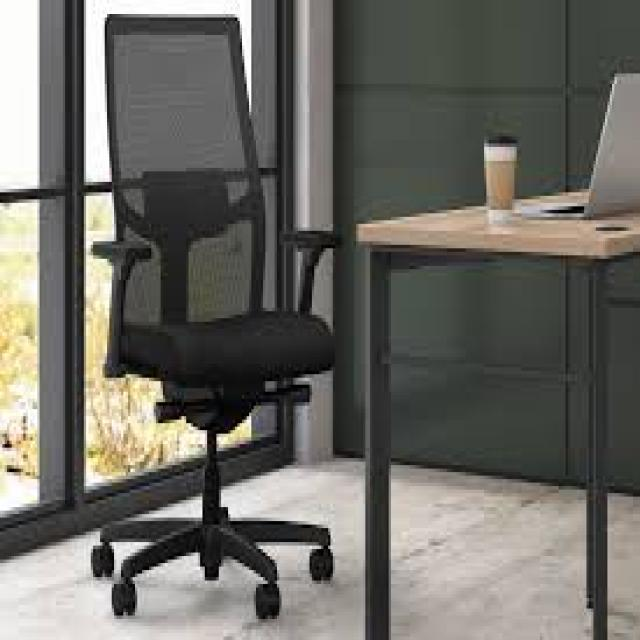chair: (21, 0, 347, 640)
